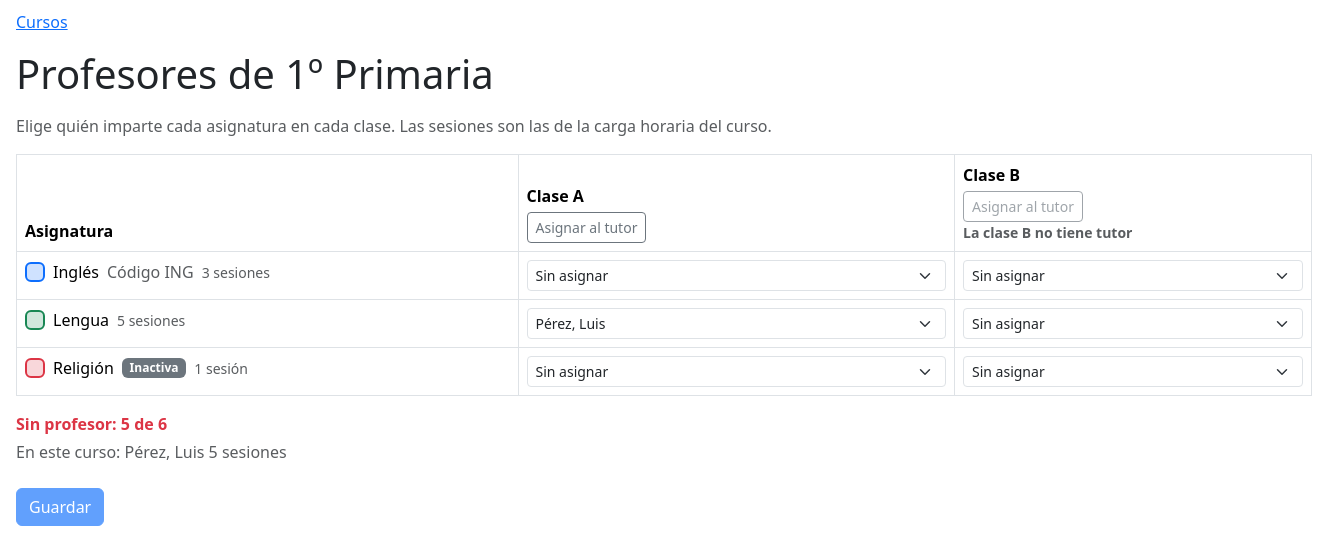
Test case: CourseAssignmentsPage › assign the tutor › fills only the empty cells of the class with its tutor
This screenshot has width=1329, height=543.
Expected: the heading "Profesores de 1º Primaria" is shown, top-left (16, 46), bottom-right (494, 101)
Expected: the table is shown, top-left (16, 154), bottom-right (1312, 396)
Click the button "Asignar al tutor" below "Clase A": [586, 228] box top-left (526, 212), bottom-right (646, 243)
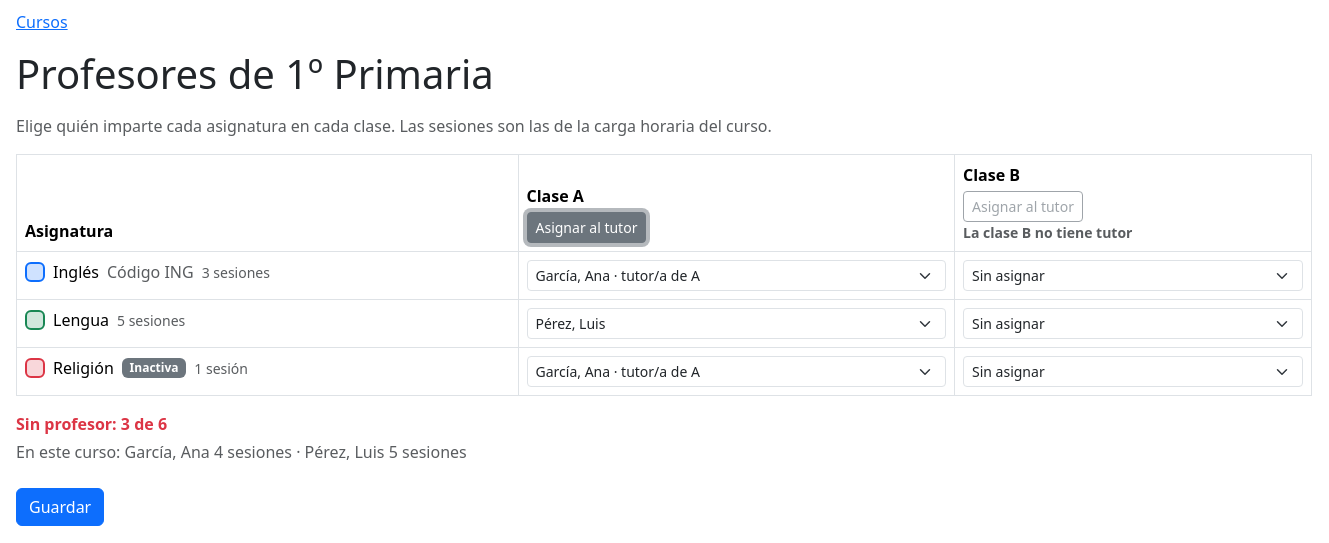
Expected: the button "Guardar" is enabled, top-left (16, 488), bottom-right (104, 526)
